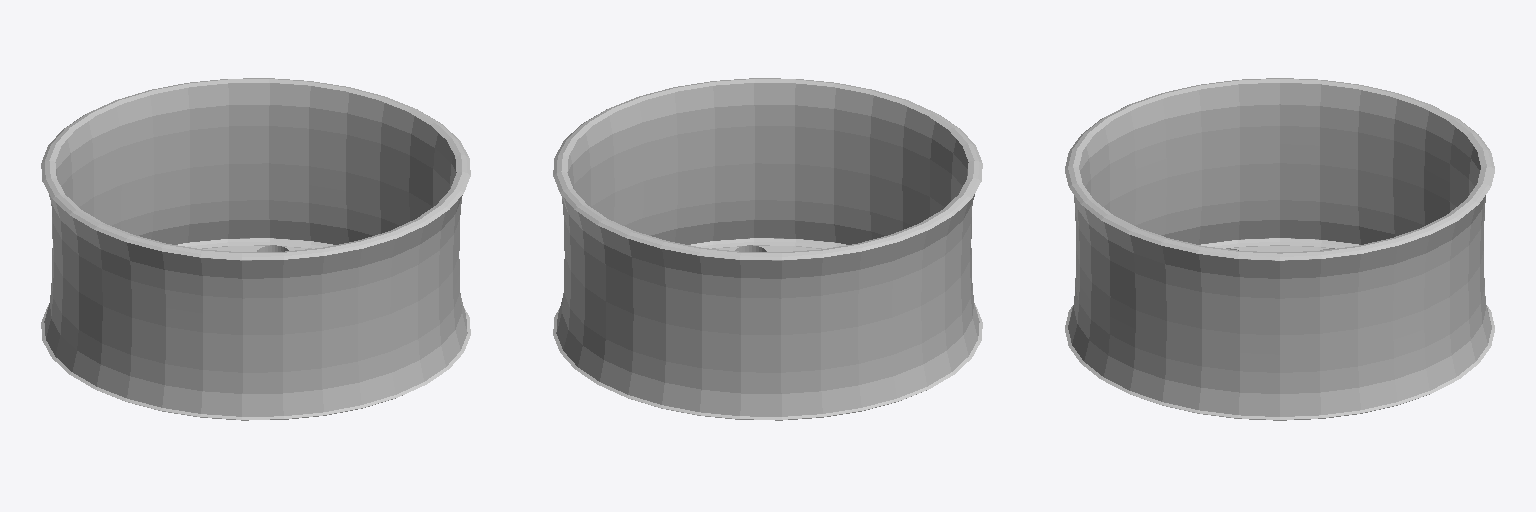
Rendered from CityBusRim_Left.obj.
The picture shows the model from 3 angles: view 1: azimuth 30°, elevation 25°; view 2: azimuth 150°, elevation 25°; view 3: azimuth 270°, elevation 25°; orthographic projection.
Parts seen in each view (by area): view 1: Metal_Cylinder; view 2: Metal_Cylinder; view 3: Metal_Cylinder.
Part boxes in pixels (left/top/right/bottom): Metal_Cylinder: left=41, top=78, right=470, bottom=420; Metal_Cylinder: left=553, top=78, right=982, bottom=420; Metal_Cylinder: left=1065, top=78, right=1494, bottom=420.
Size of the model in its own units: 0.65 by 0.2991 by 0.65.